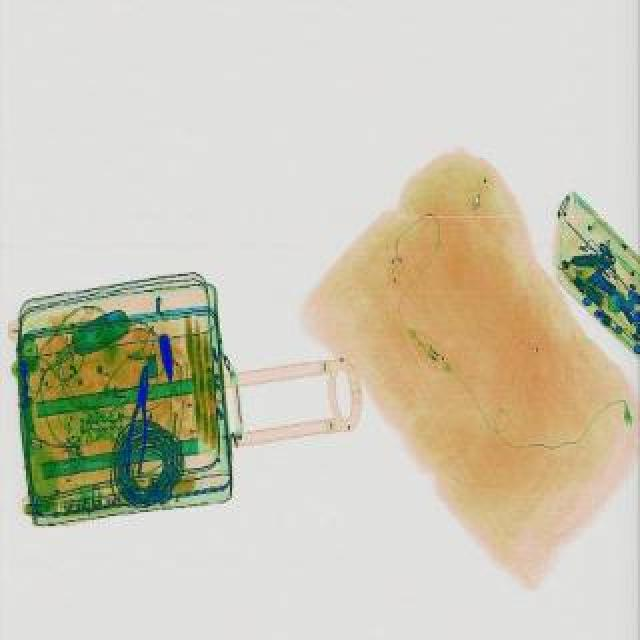wrench: (124, 366, 158, 476)
